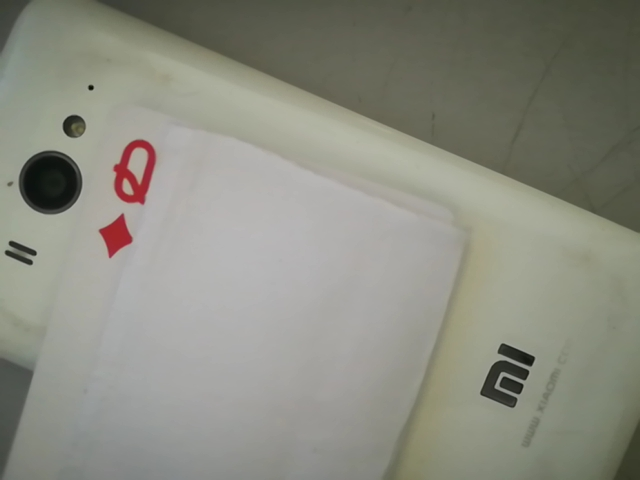fk q: (87, 127, 165, 263)
